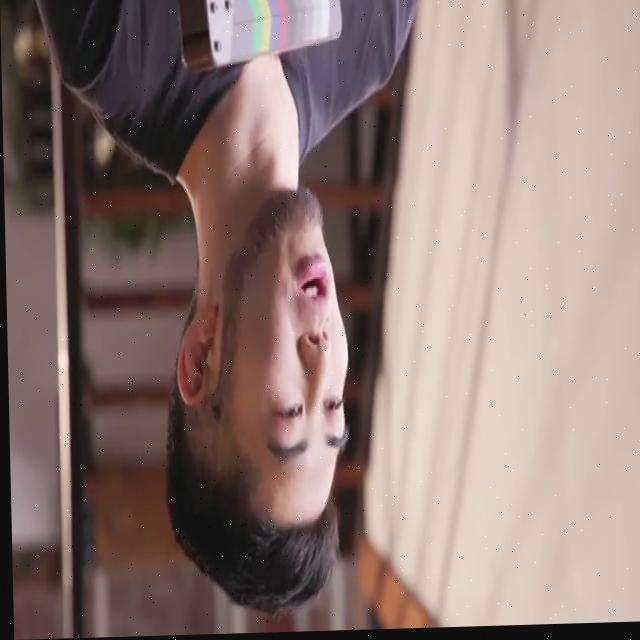Clapperboard: (175, 0, 344, 77)
